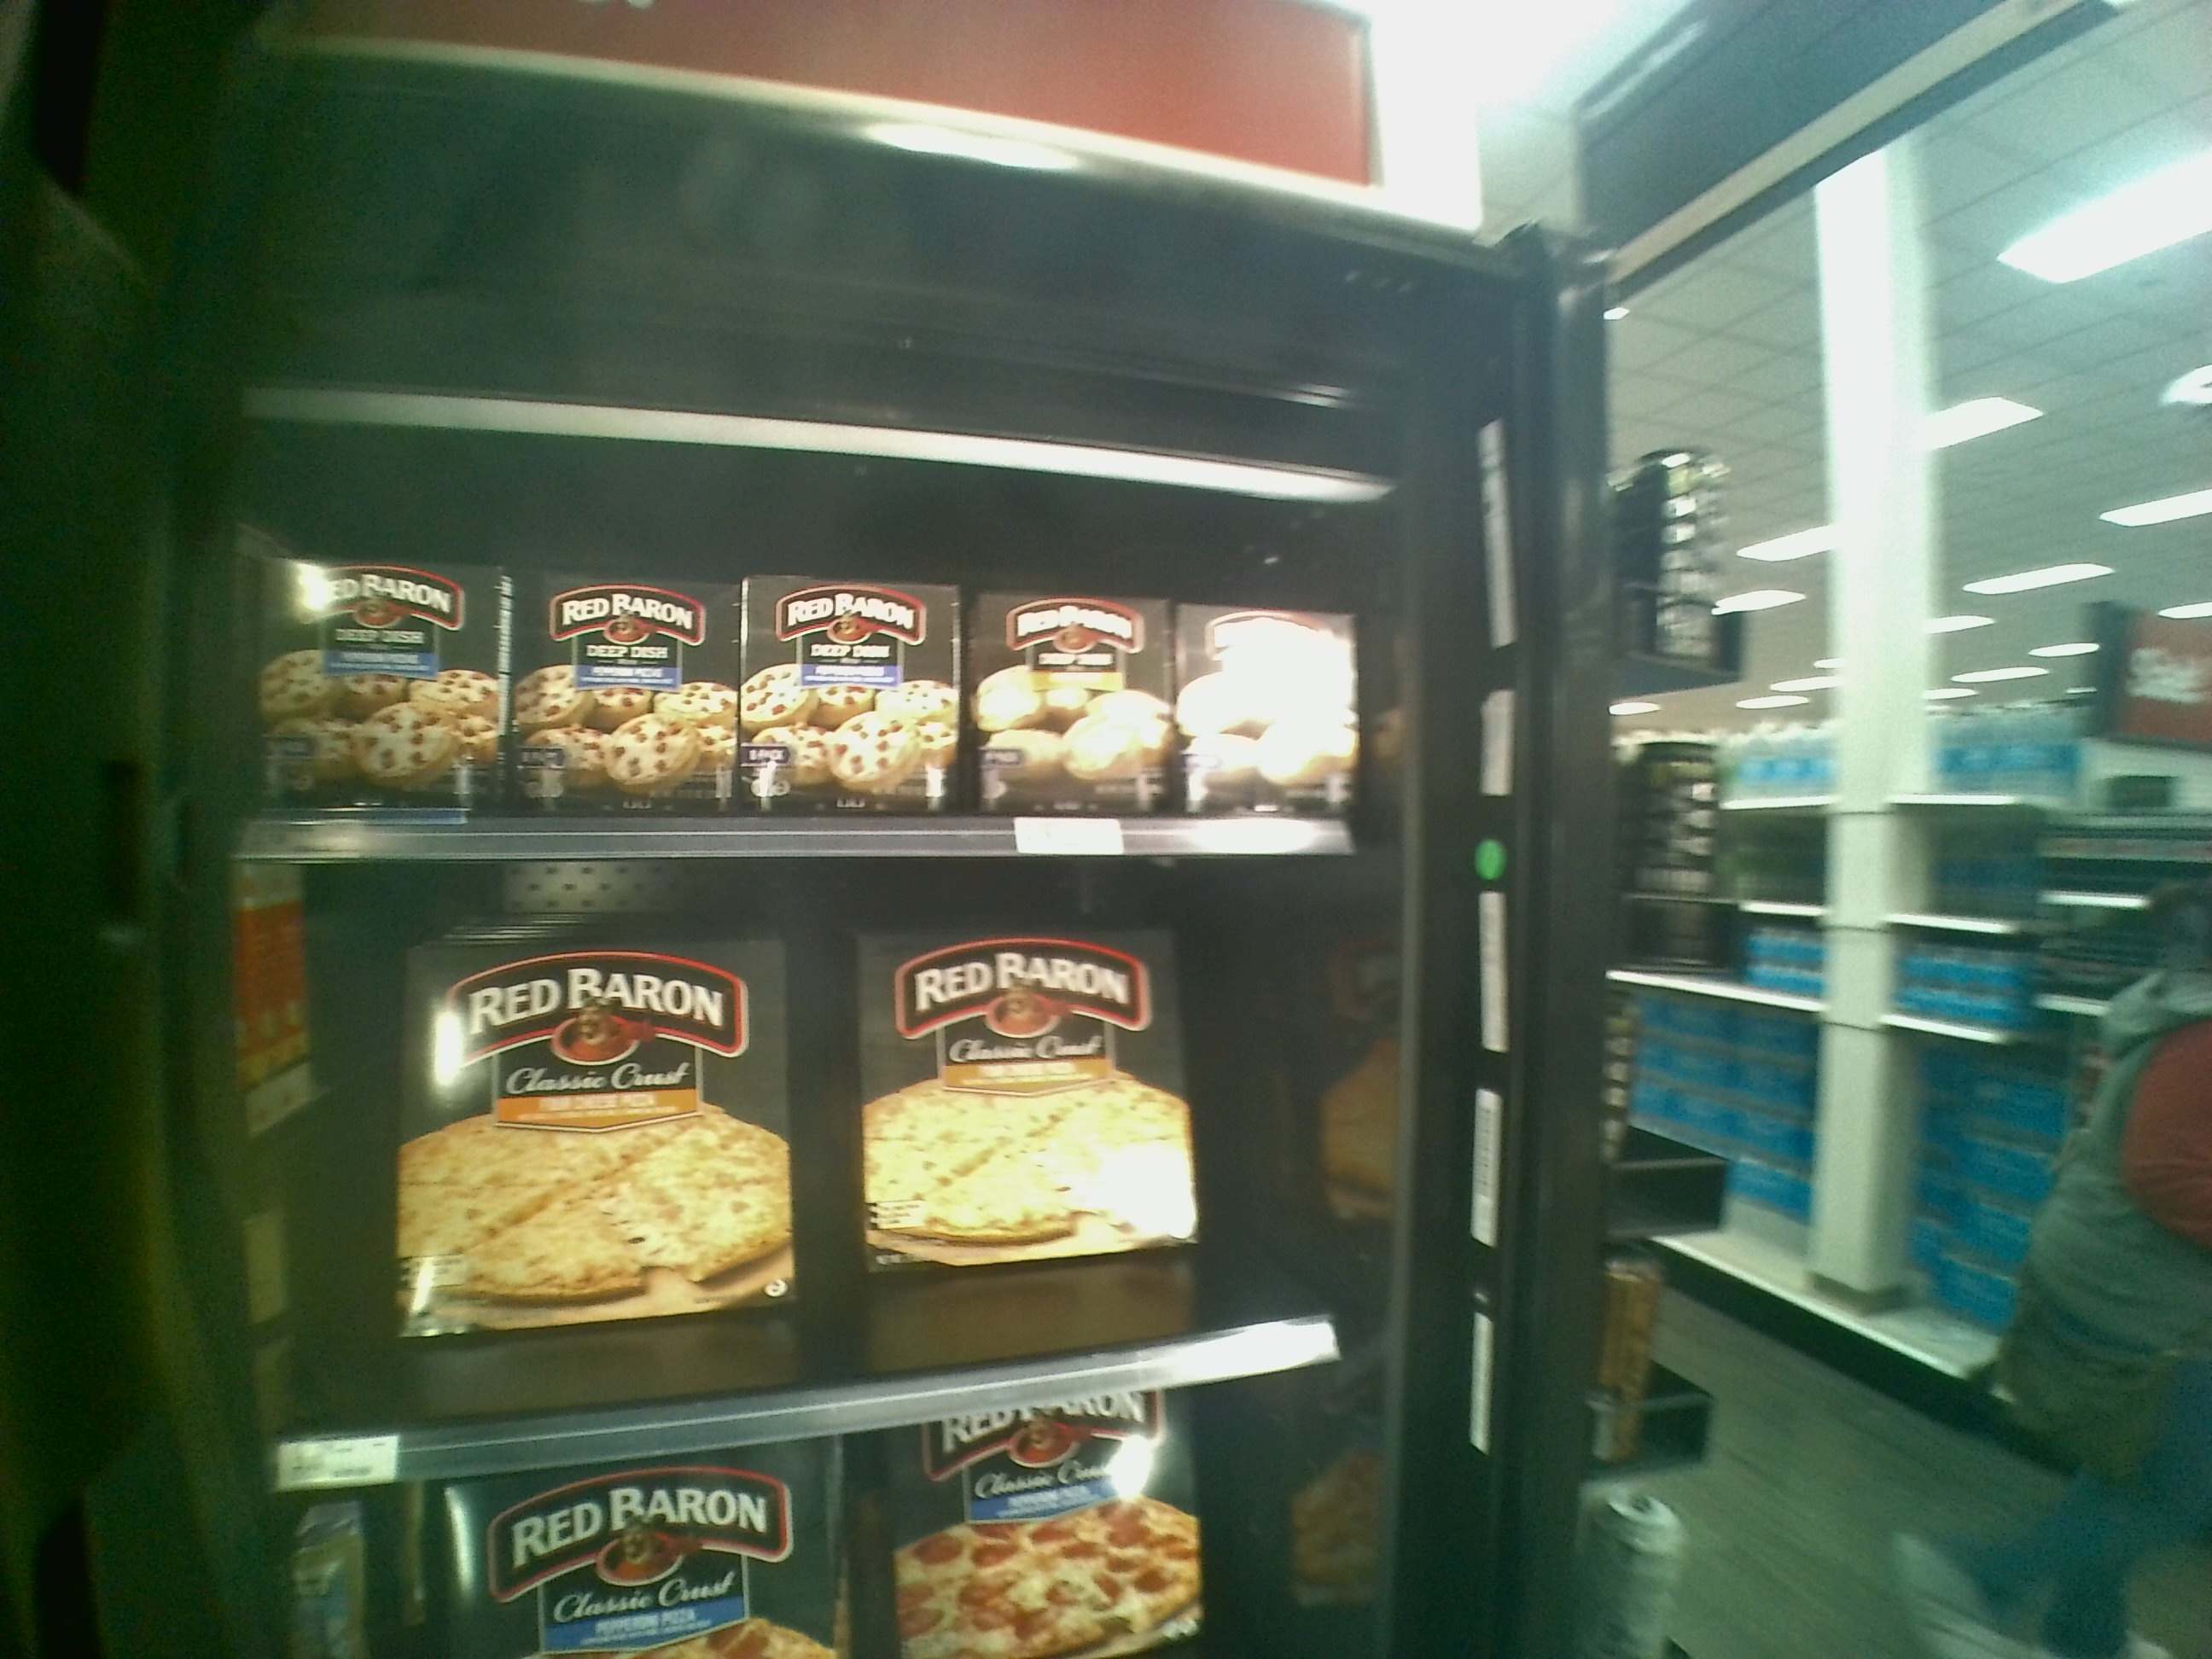shelf: (256, 856, 1404, 1473), (233, 423, 1381, 861)
